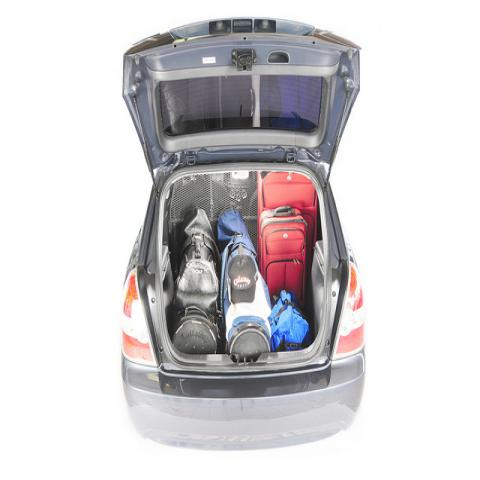car: (122, 36, 368, 446)
